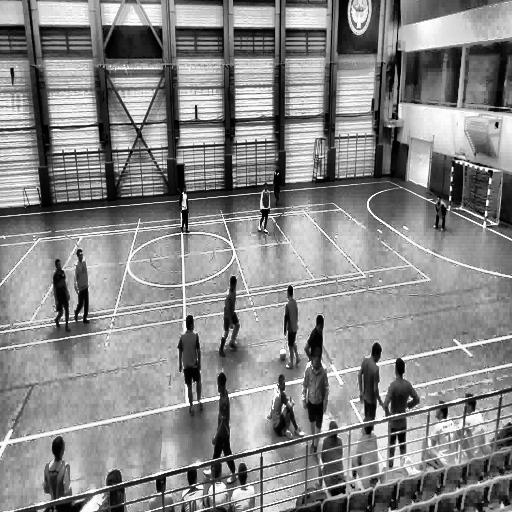ball: (279, 347, 287, 362)
player: (384, 357, 420, 463), (302, 331, 329, 454), (212, 371, 237, 476), (178, 313, 202, 416), (358, 340, 384, 432), (218, 274, 241, 354), (283, 284, 300, 368), (73, 248, 91, 325), (52, 260, 70, 332), (257, 182, 270, 232), (433, 194, 447, 232), (180, 184, 190, 234), (272, 166, 282, 208)
